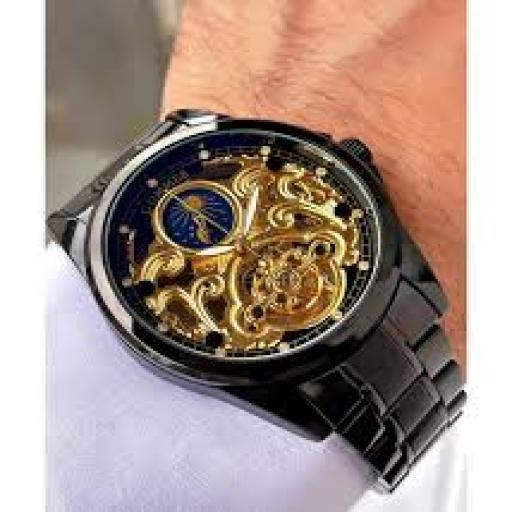KolSaati: (51, 66, 461, 490)
